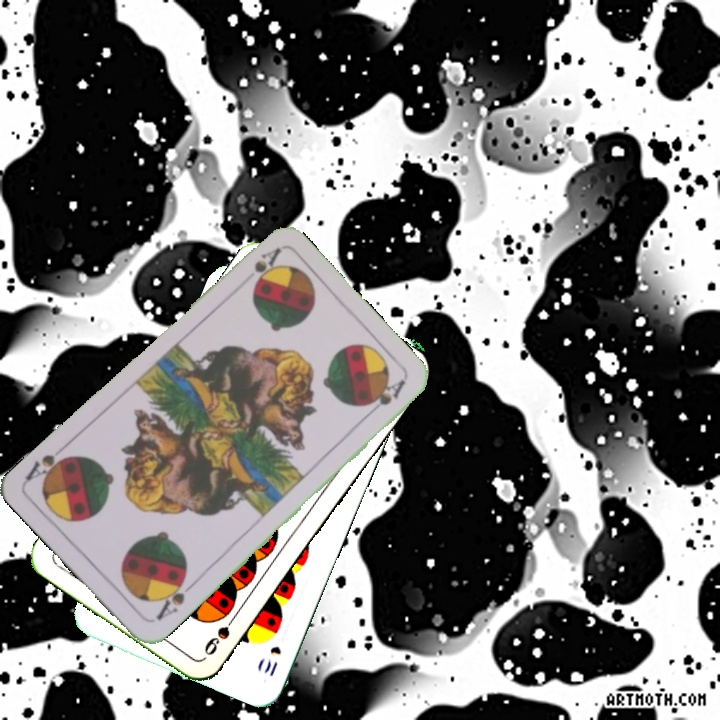S10: (260, 642, 284, 680)
S9: (200, 608, 241, 658)
SA: (151, 572, 197, 623), (248, 244, 283, 290)
